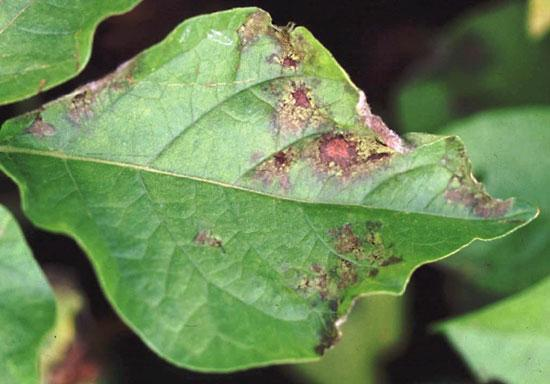Tomato Early blight leaf: (2, 0, 542, 376)
